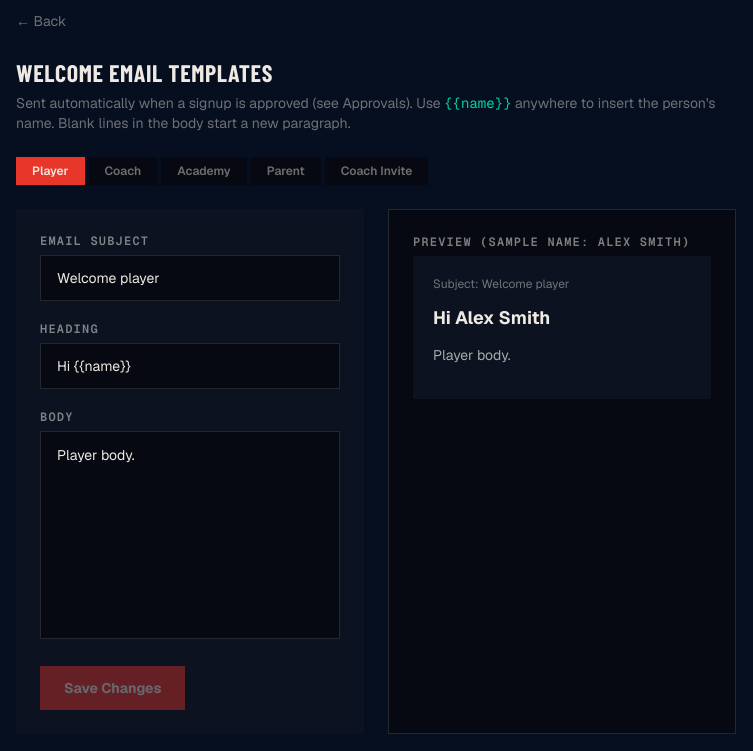
Scenario: EmailTemplatesAdminClient › a brand-new template with no DB row yet still shows editable fields, and Save stays disabled until something's typed
Click the button "Coach Invite". click: point(377, 171)
box: [325,157,428,185]
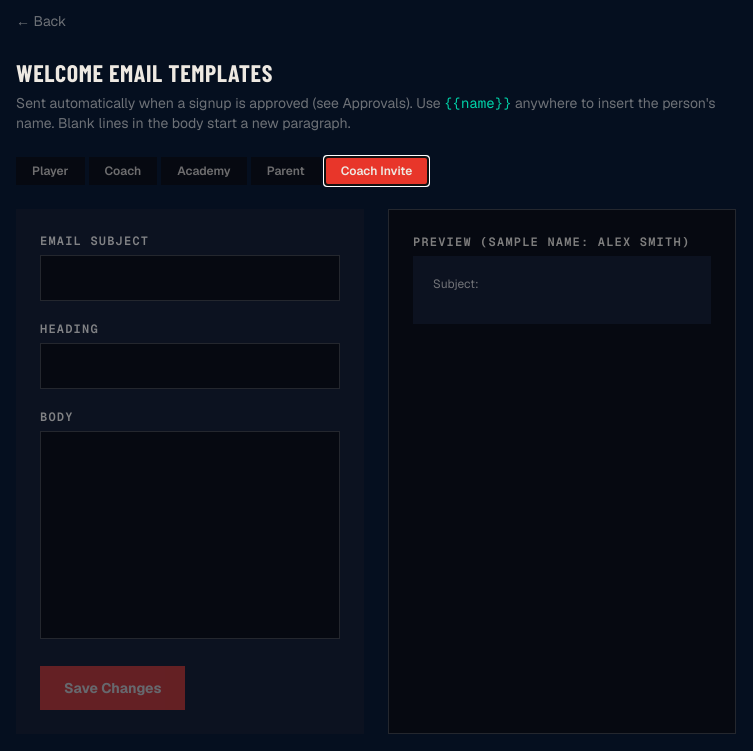
expect the button "Save Changes" is disabled: met, box [40,666,185,710]
expect the field below "Email subject" is empty: met
Type "You're invited!" into the field below "Email subject". click: point(190, 278)
box: [40,255,340,301]
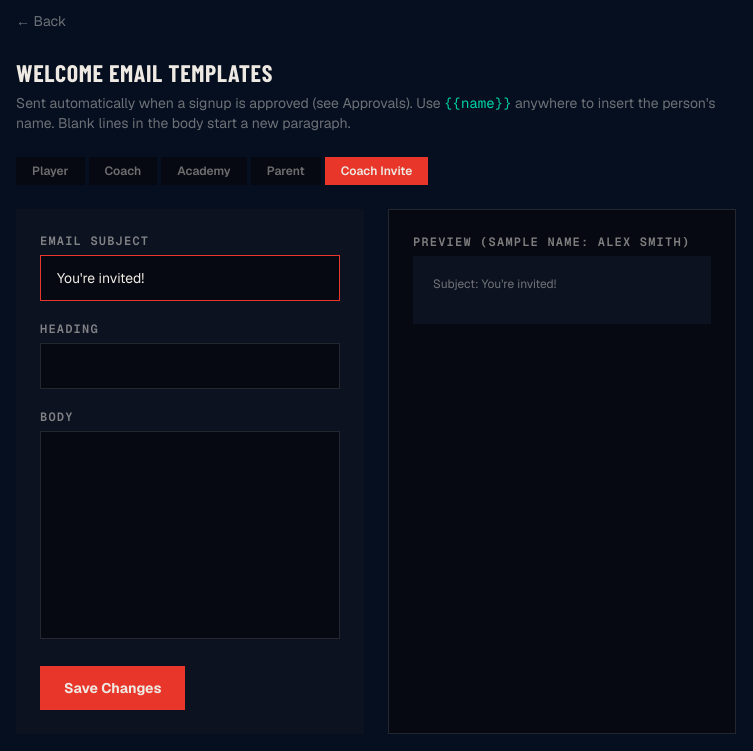
expect the button "Save Changes" is enabled: met, box [40,666,185,710]
